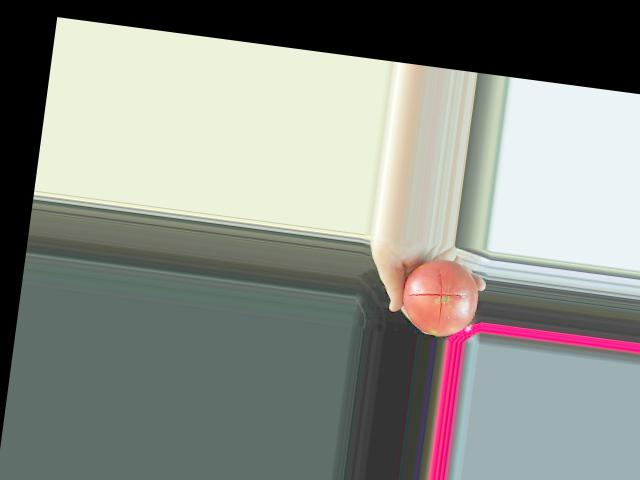tomato: (398, 254, 483, 340)
